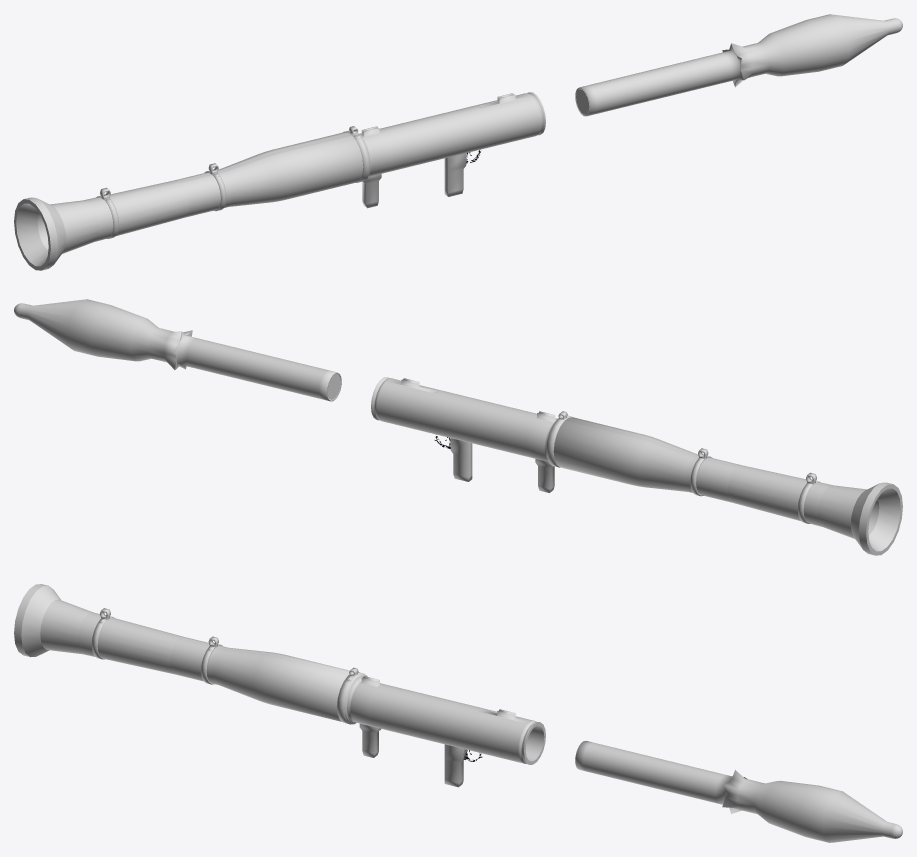
File: RPG-7fbx.fbx
3 views of the same model, one above another, from view 1: azimuth 30°, elevation 25°; view 2: azimuth 150°, elevation 25°; view 3: azimuth 330°, elevation 25° (orthographic).
Visible parts, largest first — view 1: Object.001, Sphere.008, Object.004, Object.071; view 2: Object.001, Sphere.008, Object.004, Object.071; view 3: Object.001, Sphere.008, Object.004, Object.071.
Part boxes in pixels (<box>): Object.001: <box>14,92,545,270</box>; Sphere.008: <box>575,14,902,116</box>; Object.004: <box>362,153,466,208</box>; Object.071: <box>96,126,370,238</box>; Object.001: <box>371,377,902,555</box>; Sphere.008: <box>14,299,341,401</box>; Object.004: <box>450,438,554,492</box>; Object.071: <box>546,411,820,523</box>; Object.001: <box>14,584,545,764</box>; Sphere.008: <box>575,741,902,842</box>; Object.004: <box>359,723,466,787</box>; Object.071: <box>91,608,367,724</box>.
Bounding box in the file's own units: 21922 × 2279 × 1609.
